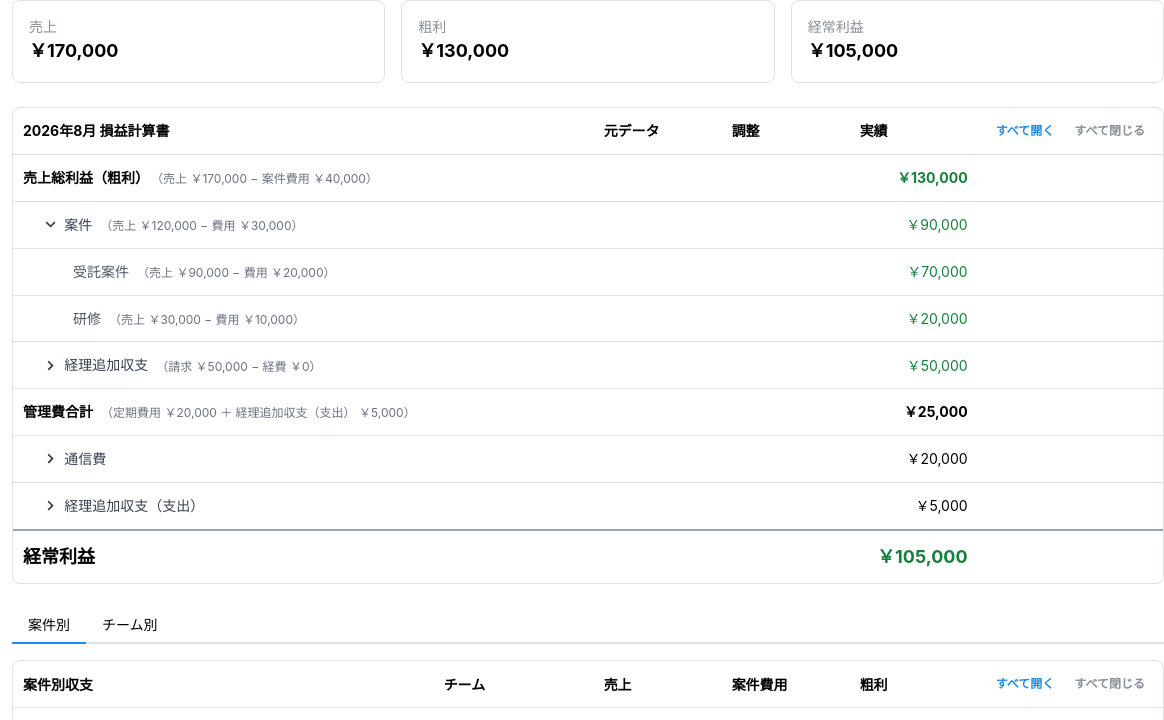
Test: ProfitLossStatement のサマリーカードと損益計算書（Issue #164） › 経費の無い収入エントリの明細は「請求 X」のみを注記する
What coordinates should you click on to do the following:
click the button "経理追加収支"
I would click on:
 (97, 365)
Its box is [45,354,148,376].
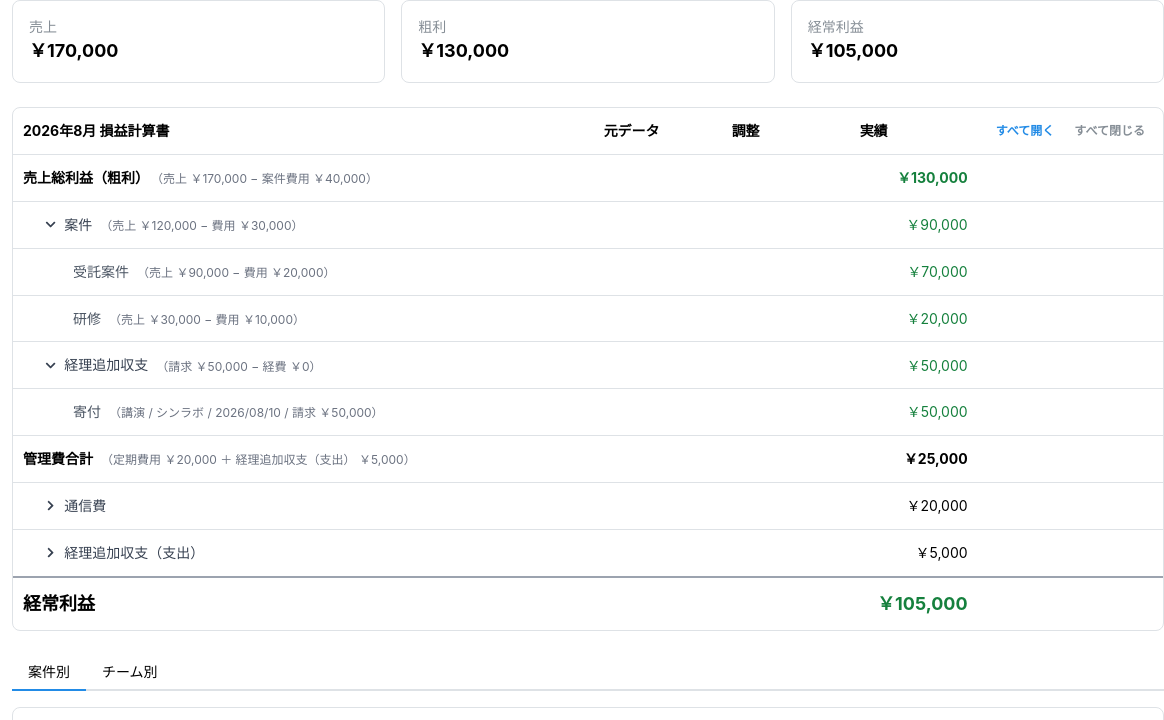
Expected: the row "寄付（講演 / シンラボ / 2026/08/10 / 請求 ￥50,000） ￥50,000" does not show "経費", [13,389,1163,436]
Result: the row "寄付（講演 / シンラボ / 2026/08/10 / 請求 ￥50,000） ￥50,000" is shown at [13,389,1163,436]
